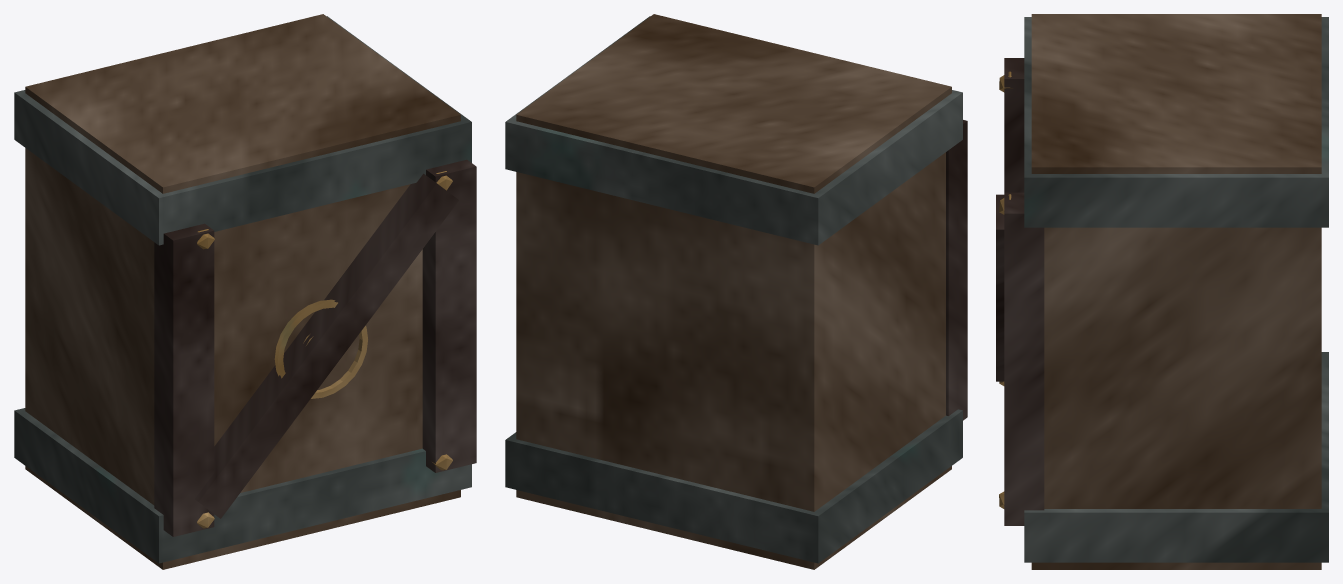
Rendered from 0734_supply_crate_09.glb.
3 views of the same model, side by side, from view 1: azimuth 30°, elevation 25°; view 2: azimuth 150°, elevation 25°; view 3: azimuth 270°, elevation 25° (orthographic). The views are drawn at different scales.
Visible parts, largest first — view 1: wood, wood_dark, iron, brass; view 2: wood, iron, wood_dark; view 3: wood, iron, wood_dark.
Boxes of the visible parts, bbox=[...] form: wood: bbox=[25, 14, 460, 569]; wood_dark: bbox=[154, 159, 476, 536]; iron: bbox=[14, 16, 471, 563]; brass: bbox=[197, 171, 452, 528]; wood: bbox=[516, 14, 951, 569]; iron: bbox=[505, 16, 962, 563]; wood_dark: bbox=[946, 120, 967, 420]; wood: bbox=[1031, 14, 1321, 569]; iron: bbox=[1024, 17, 1328, 562]; wood_dark: bbox=[996, 58, 1044, 525].
Bounding box in the file's own units: 0.7617 × 0.8897 × 0.6661.
4 materials, 4 textured.
